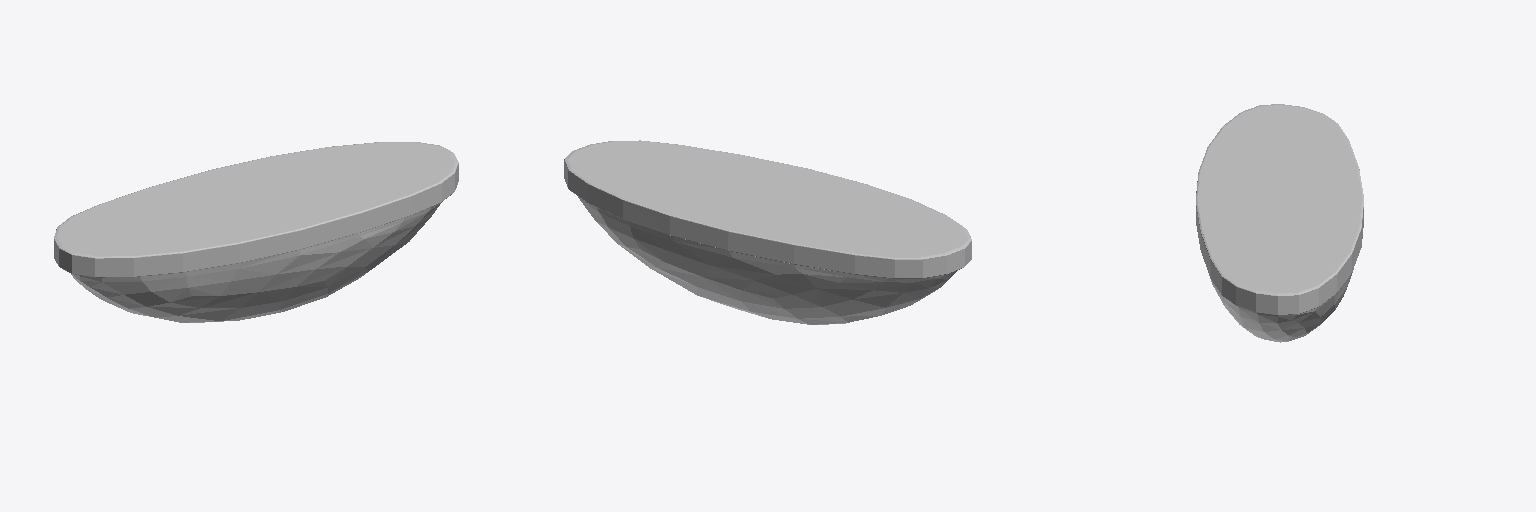
File: test sword 4.obj
3 views of the same model, side by side, from view 1: azimuth 30°, elevation 25°; view 2: azimuth 150°, elevation 25°; view 3: azimuth 270°, elevation 25° (orthographic).
Parts seen in each view (by area): view 1: polySurface7 handle_lo; view 2: polySurface7 handle_lo; view 3: polySurface7 handle_lo.
Part boxes in pixels (bbox=[...]): polySurface7 handle_lo: bbox=[54, 142, 458, 322]; polySurface7 handle_lo: bbox=[564, 140, 971, 324]; polySurface7 handle_lo: bbox=[1196, 104, 1363, 342].
Size of the model in its own units: 1.78 by 0.49 by 0.6607.